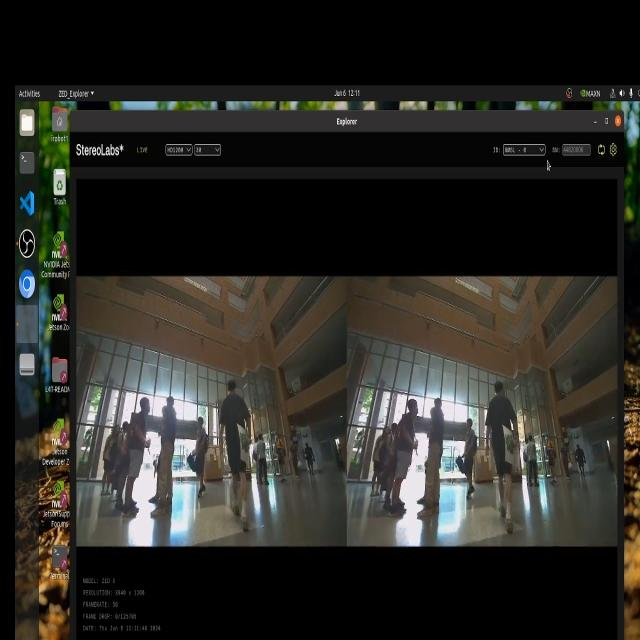green: (503, 428, 518, 463), (235, 427, 252, 456)
